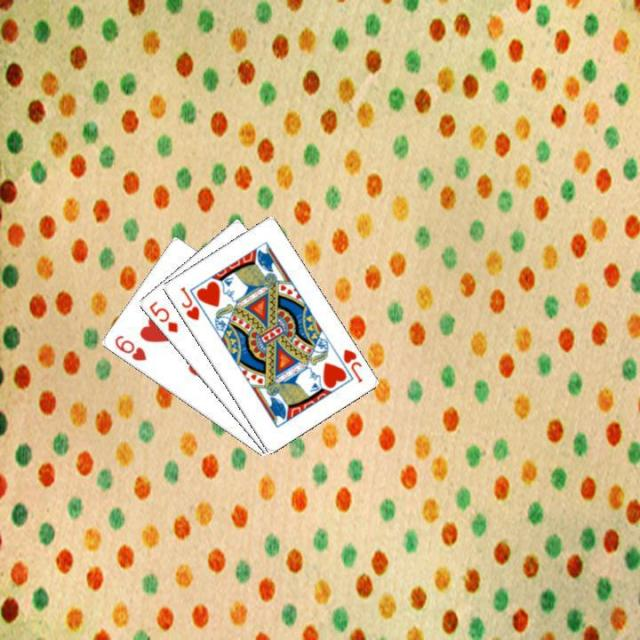5D: (145, 297, 179, 335)
6H: (110, 332, 148, 362)
JH: (338, 345, 364, 384), (176, 282, 201, 322)
